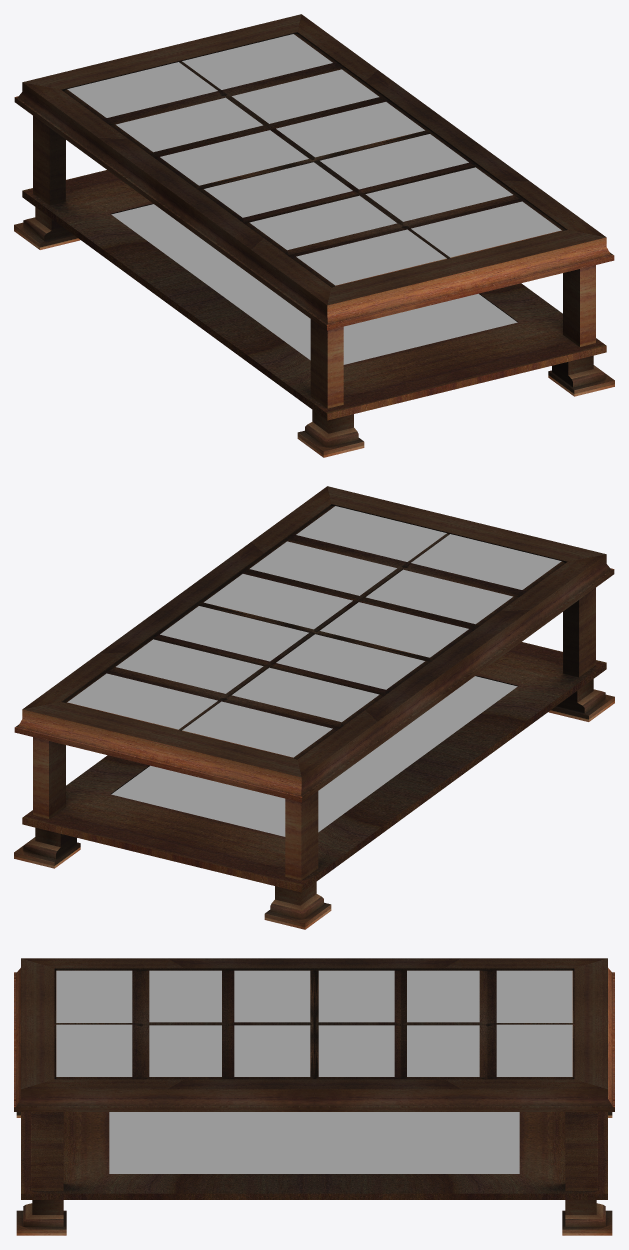
The model's file is living_room_coffee_table_l8u6QhU.glb.
3 views of the same model, one above another, from view 1: azimuth 30°, elevation 25°; view 2: azimuth 150°, elevation 25°; view 3: azimuth 270°, elevation 25° (orthographic). The views are drawn at different scales.
Visible parts, largest first — view 1: Mesita; view 2: Mesita; view 3: Mesita.
Part boxes in pixels (x1,y1,x2,y2): Mesita: (14,14,614,457); Mesita: (14,486,614,929); Mesita: (14,958,614,1235).
Size of the model in its own units: 103 by 50.44 by 191.
Materials: 2 (1 with a texture image).
